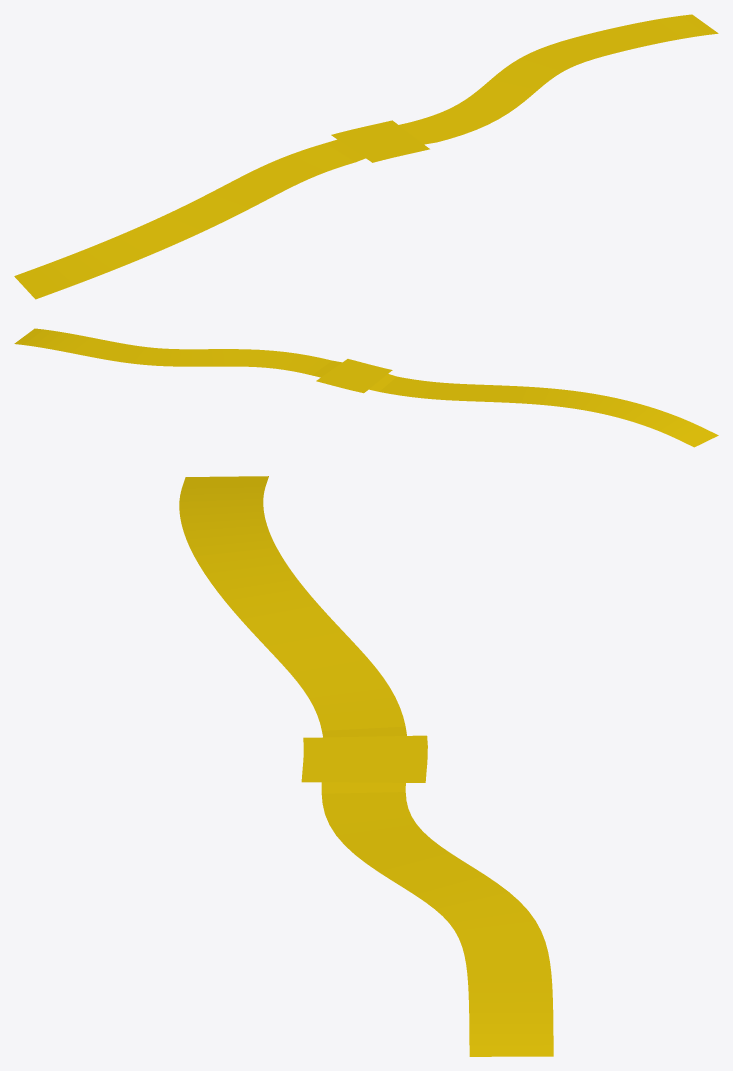
File: island_1_navmesh.glb
3 views of the same model, one above another, from view 1: azimuth 30°, elevation 25°; view 2: azimuth 150°, elevation 25°; view 3: azimuth 270°, elevation 25° (orthographic). The views are drawn at different scales.
Parts seen in each view (by area): view 1: NavMesh; view 2: NavMesh; view 3: NavMesh.
Boxes of the visible parts, x1,y1,x2,y2 form: NavMesh: (14, 14, 718, 299); NavMesh: (14, 328, 718, 447); NavMesh: (179, 476, 553, 1056).
Size of the model in its own units: 23.57 by 0.6008 by 6.23.
